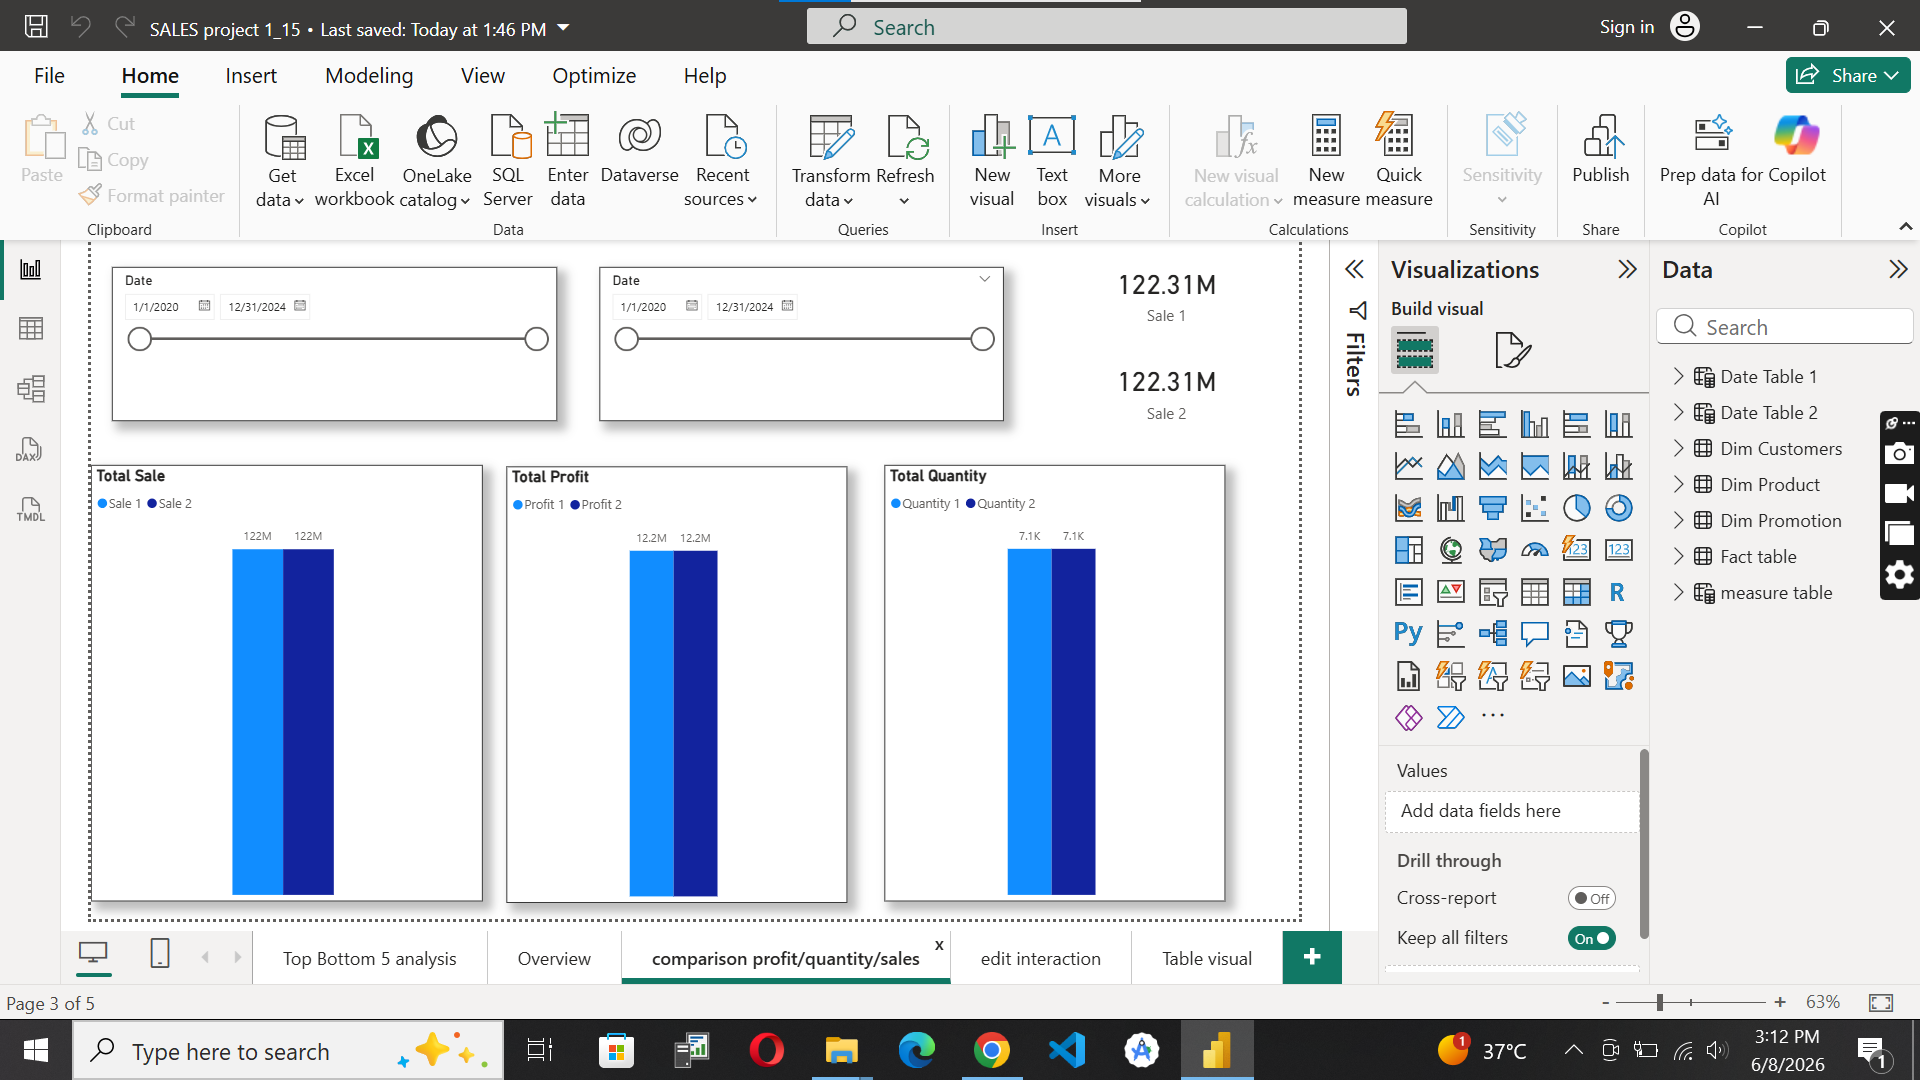

What the dashboard file says about the page in this screenshot:
{"tool":"powerbi","page":{"name":"comparison profit/quantity/sales","canvas":[1280,720],"ordinal":2},"visuals":[{"type":"slicer","fields":{"Values":["Date Table 1.Date"]},"box":[21.7,28.3,471.7,163.3],"z":0},{"type":"clusteredColumnChart","title":"Total Sale","fields":{"Y":["measure table.Sale 1","measure table.Sale 2"]},"box":[0,238.6,415.1,462.9],"z":1000},{"type":"clusteredColumnChart","title":"Total Profit","fields":{"Y":["measure table.Profit 1","measure table.Profit 2"]},"box":[440.6,240.2,361.1,462.9],"z":2000},{"type":"slicer","fields":{"Values":["Date Table 2.Date"]},"box":[540,28.3,428.3,163.3],"z":3000},{"type":"clusteredColumnChart","title":"Total Quantity","fields":{"Y":["measure table.Quantity 1","measure table.Quantity 2"]},"box":[841.4,238.6,361.1,462.9],"z":4000},{"type":"card","fields":{"Values":["measure table.Sale 1"]},"box":[1021.7,13.3,238.3,85],"z":5000},{"type":"card","fields":{"Values":["measure table.Sale 2"]},"box":[1021.7,110,238.3,98.3],"z":6000}]}

Visuals, with their boxes on the page's 1280x720 design canvas (x1, y1, x2, y2). These are canvas units, not pixel positions in the 1920x1080 screenshot, which may show the page scaled, cropped or inside an application window:
slicer - Date Table 1.Date: box=[22, 28, 493, 192]
"Total Sale" clusteredColumnChart: box=[0, 239, 415, 702]
"Total Profit" clusteredColumnChart: box=[441, 240, 802, 703]
slicer - Date Table 2.Date: box=[540, 28, 968, 192]
"Total Quantity" clusteredColumnChart: box=[841, 239, 1202, 702]
card - measure table.Sale 1: box=[1022, 13, 1260, 98]
card - measure table.Sale 2: box=[1022, 110, 1260, 208]
